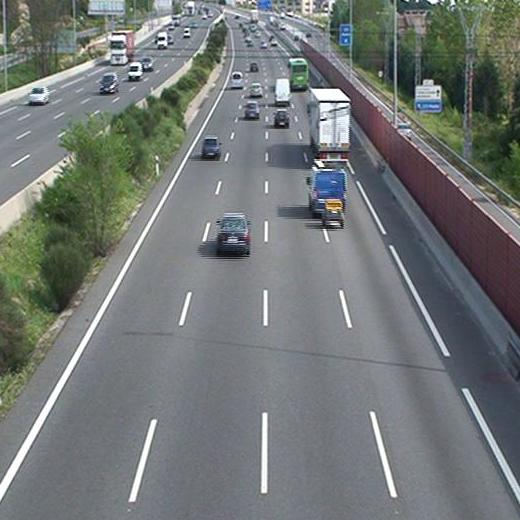bus: (284, 58, 310, 91)
car: (215, 213, 252, 253), (201, 137, 221, 159), (274, 109, 291, 129), (244, 100, 260, 120), (248, 82, 264, 98), (248, 61, 259, 72)
truck: (305, 87, 352, 161)
van: (308, 166, 347, 213), (273, 77, 292, 105), (230, 71, 244, 88)
